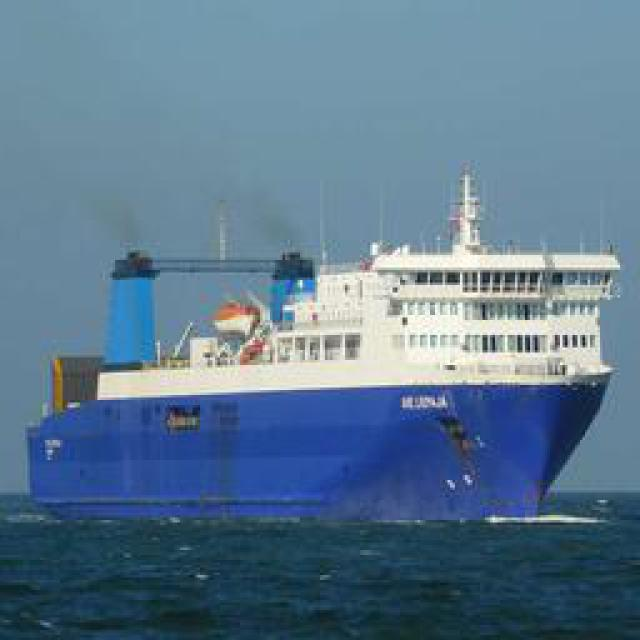Ship: (26, 151, 631, 516)
